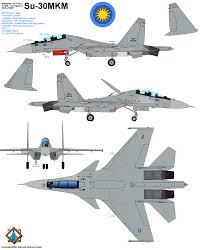maybay_muctieu: (23, 130, 181, 237), (42, 69, 196, 124), (11, 18, 173, 67), (1, 123, 98, 172)
